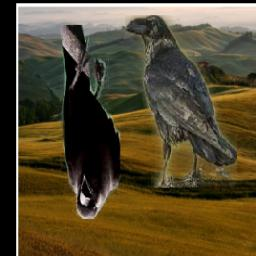Crow: (126, 16, 238, 189), (61, 26, 121, 220)
